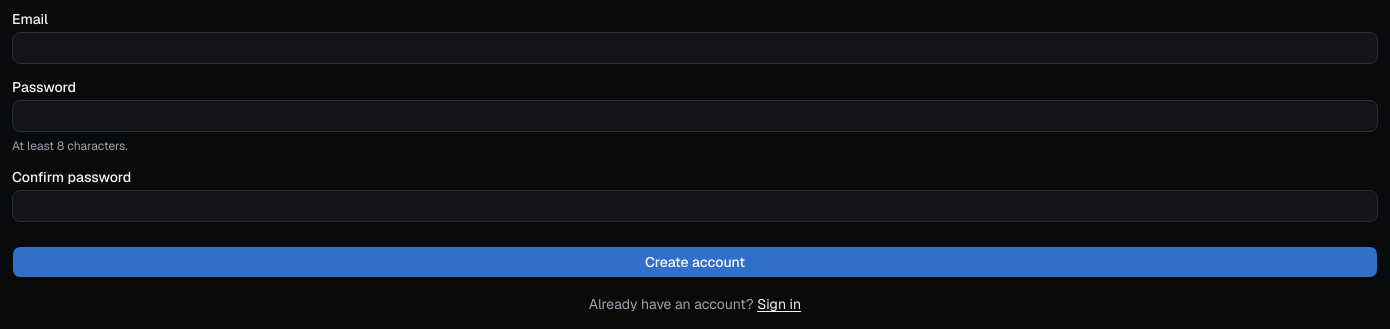
SignupForm › on success, replaces the form with the resend-confirmation form prefilled with the submitted email
Type "new@example.com" into the field labelled "Email" at (695, 48), box [12,32,1378,64]
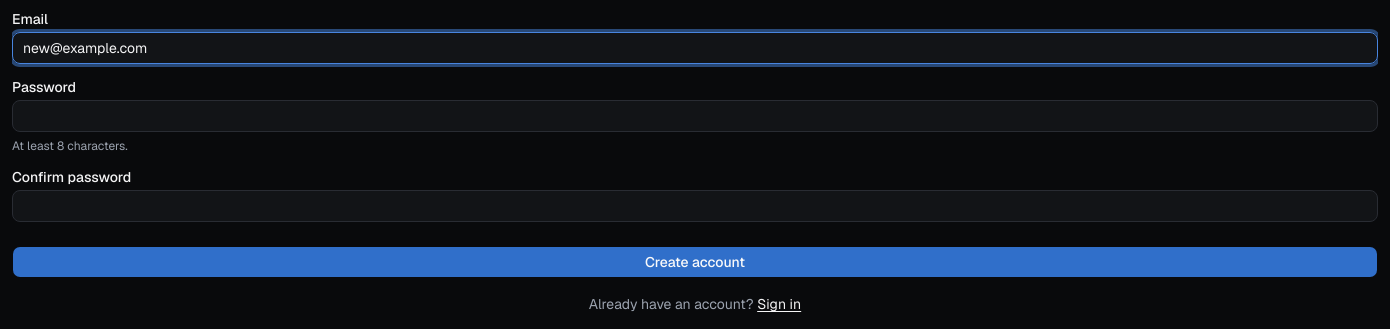
Type "password123" into the password field labelled "Password" at (695, 116), box [12,100,1378,132]
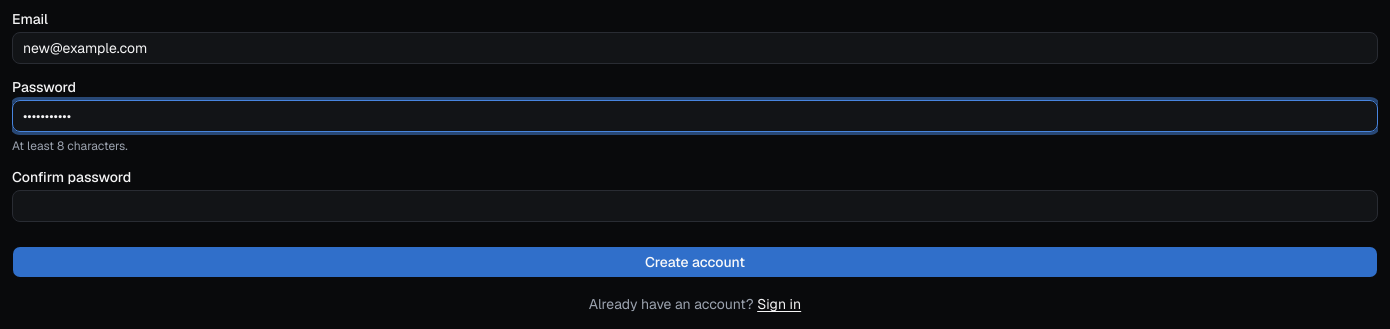
Type "password123" into the password field labelled "Confirm password" at (695, 206), box [12,190,1378,222]
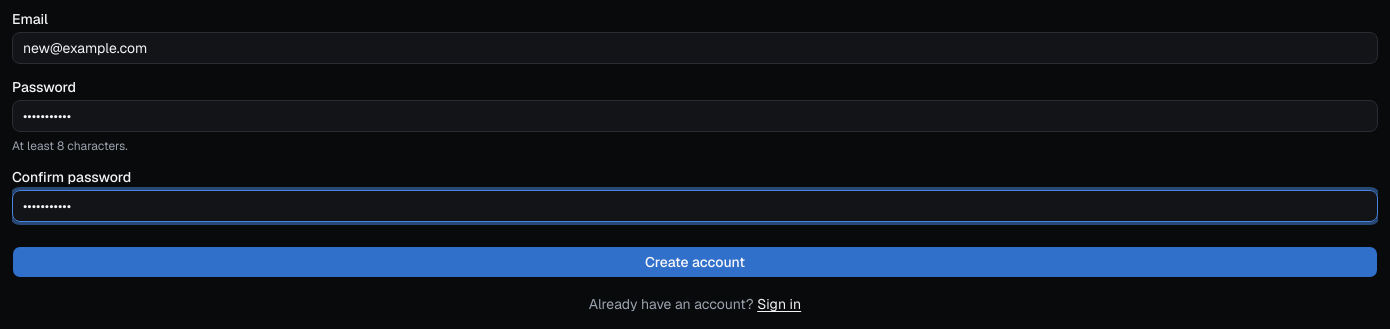
Click the button "Create account" at (695, 262), box [12,246,1378,278]
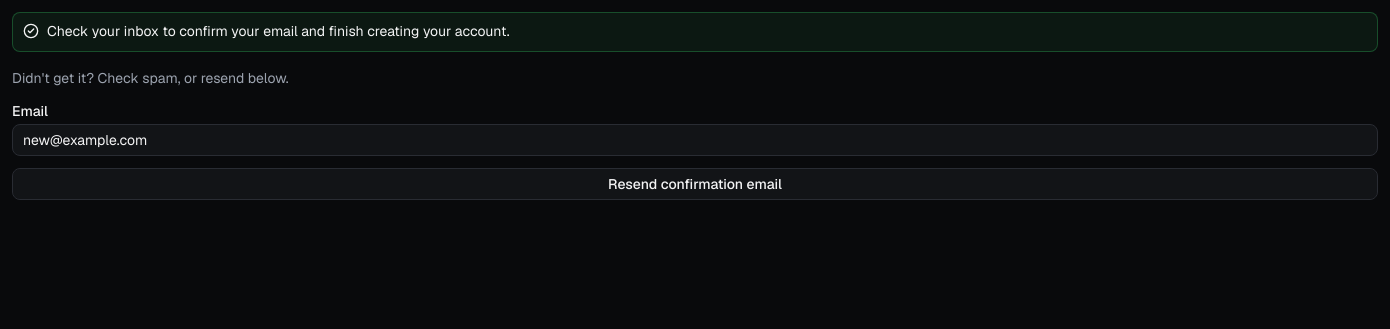
Expected: the text "Check your inbox to confirm" is shown, [47,22,510,40]
Expected: the field labelled "Email" holds "new@example.com", [12,124,1378,156]
Expected: the button "Resend confirmation email" is shown, [12,168,1378,200]
